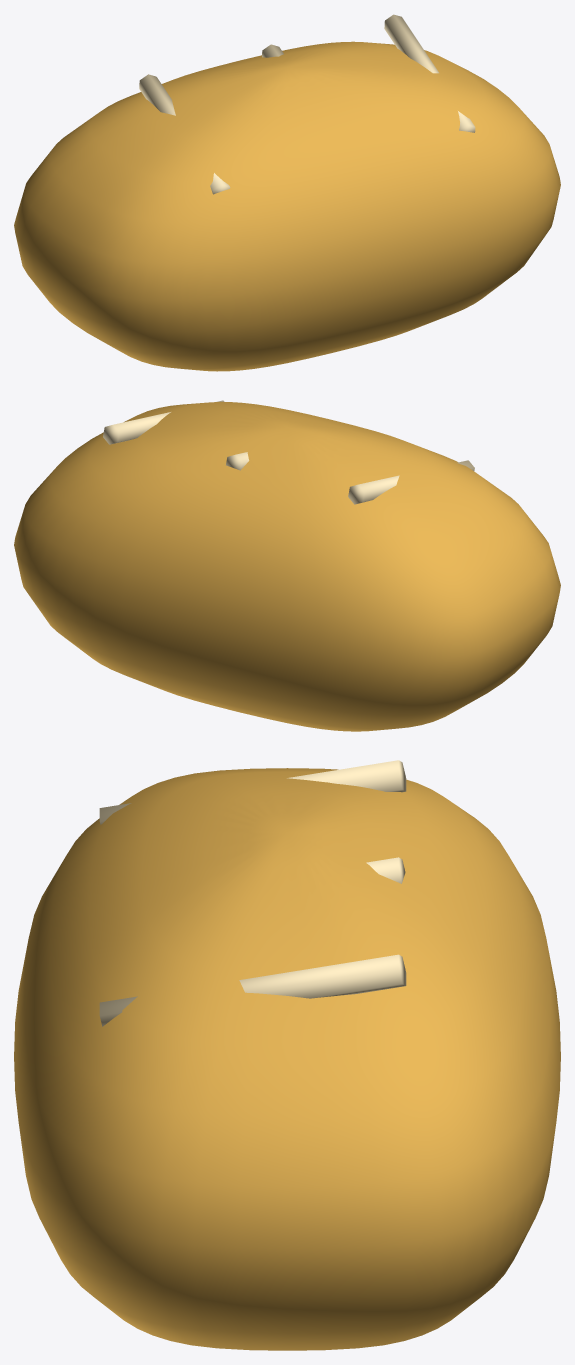
The model's file is goods_bread.glb.
The picture shows the model from 3 angles, top to bottom: view 1: azimuth 30°, elevation 25°; view 2: azimuth 150°, elevation 25°; view 3: azimuth 270°, elevation 25°; orthographic projection. The views are drawn at different scales.
Parts seen in each view (by area): view 1: goods_bread_crafted_mesh; view 2: goods_bread_crafted_mesh; view 3: goods_bread_crafted_mesh.
Boxes of the visible parts, bbox=[...] form: goods_bread_crafted_mesh: bbox=[14, 14, 560, 371]; goods_bread_crafted_mesh: bbox=[14, 400, 560, 731]; goods_bread_crafted_mesh: bbox=[14, 760, 560, 1350].
Bounding box in the file's own units: 0.7896 × 0.4286 × 0.4757.
